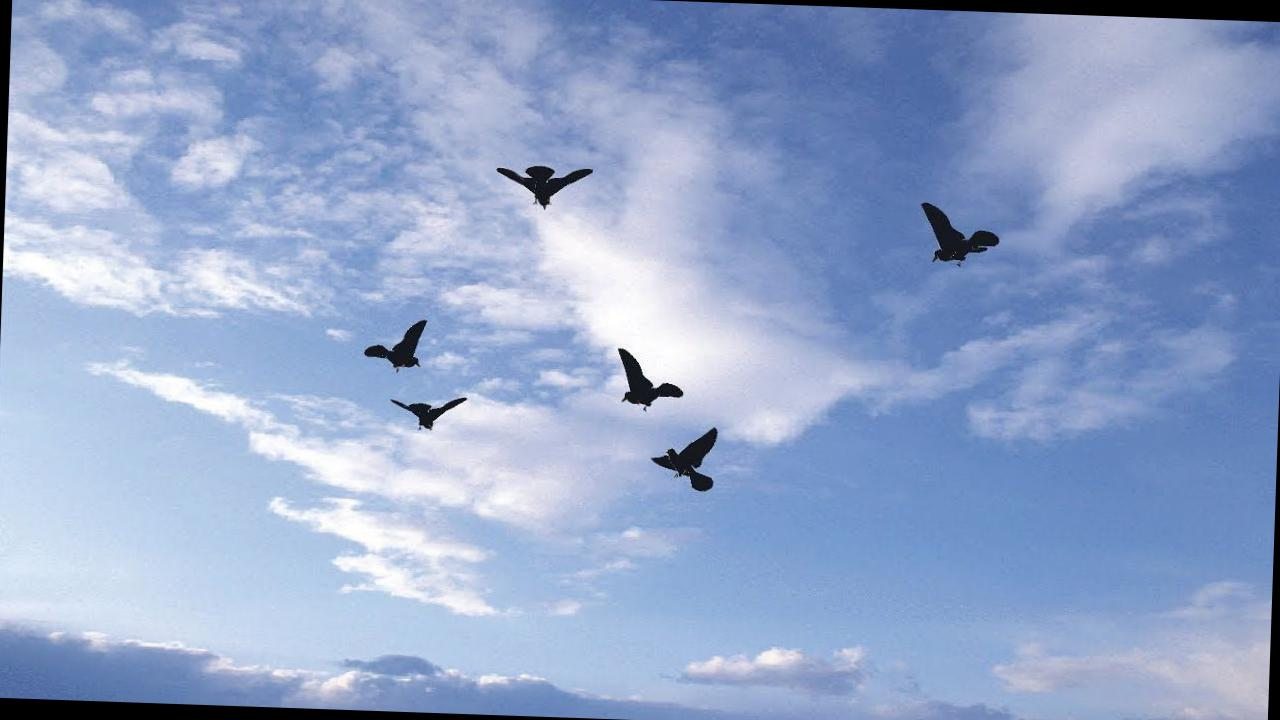bird: (900, 187, 1004, 286), (638, 420, 744, 499), (594, 325, 689, 413), (482, 156, 599, 218), (356, 307, 436, 376), (380, 390, 476, 444)
